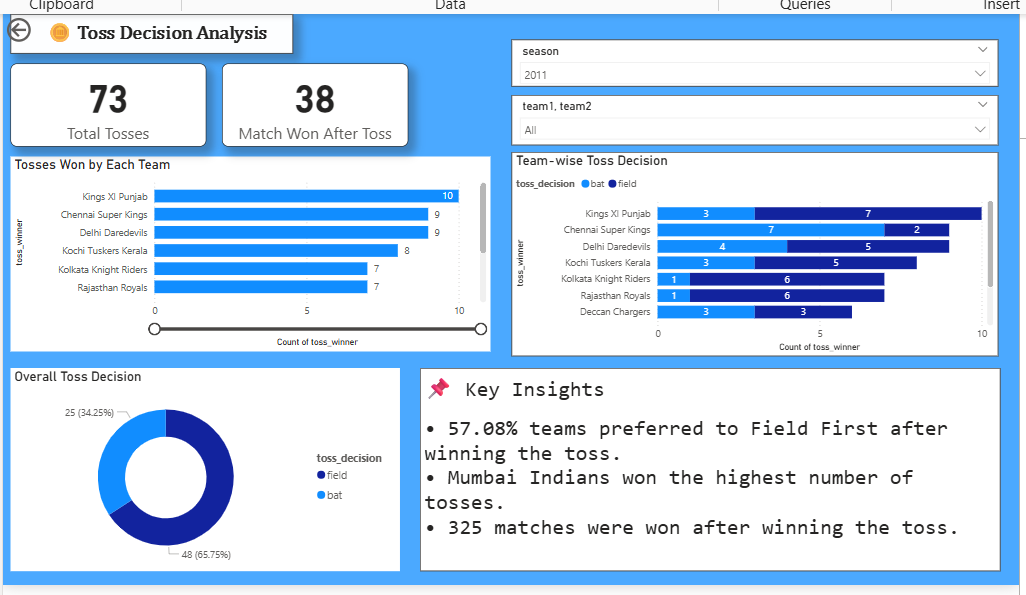

The dashboard page shown, as its layout file describes it:
{"tool":"powerbi","page":{"name":"toss decision analysis","canvas":[1280,720],"ordinal":1},"visuals":[{"type":"clusteredBarChart","title":"Tosses Won by Each Team","fields":{"Category":["matches (1) csv.toss_winner"],"Y":["CountNonNull(matches (1) csv.toss_winner)"]},"box":[9.1,180.2,604.2,245.3],"z":0},{"type":"donutChart","title":"Overall Toss Decision","fields":{"Category":["matches (1) csv.toss_decision"],"Y":["CountNonNull(matches (1) csv.toss_decision)"]},"box":[9.1,445.2,490.6,255.9],"z":1000},{"type":"textbox","box":[1183.1,688.7,12.4,12.4],"z":2000},{"type":"textbox","box":[9.1,0,355.8,50],"z":3000},{"type":"card","fields":{"Values":["Count(matches (1) csv.id)","select"]},"box":[9.1,62.1,246.8,104.5],"z":4000},{"type":"actionButton","box":[0,0,100,40],"z":5000},{"type":"card","fields":{"Values":["deliveries csv.Match Won After Toss","select"]},"box":[275.6,62.1,234.7,104.5],"z":6000},{"type":"barChart","title":"Team-wise Toss Decision","fields":{"Category":["matches (1) csv.toss_winner"],"Y":["CountNonNull(matches (1) csv.toss_winner)"],"Series":["matches (1) csv.toss_decision"]},"box":[640.5,174.1,613.3,257.4],"z":7000},{"type":"textbox","box":[525.4,445.2,731.4,255.9],"z":8000},{"type":"slicer","fields":{"Values":["matches (1) csv.season"]},"box":[640.5,31.8,613.3,59.1],"z":9000},{"type":"slicer","fields":{"Values":["matches (1) csv.team1","matches (1) csv.team2"]},"box":[640.5,103,613.3,63.6],"z":10000}]}

Visuals, with their boxes on the page's 1280x720 design canvas (x1, y1, x2, y2). These are canvas units, not pixel positions in the 1026x595 screenshot, which may show the page scaled, cropped or inside an application window:
"Tosses Won by Each Team" clusteredBarChart: [9, 180, 613, 426]
"Overall Toss Decision" donutChart: [9, 445, 500, 701]
textbox: [1183, 689, 1196, 701]
textbox: [9, 0, 365, 50]
card - Count(matches (1) csv.id) x select: [9, 62, 256, 167]
actionButton: [0, 0, 100, 40]
card - deliveries csv.Match Won After Toss x select: [276, 62, 510, 167]
"Team-wise Toss Decision" barChart: [640, 174, 1254, 432]
textbox: [525, 445, 1257, 701]
slicer - matches (1) csv.season: [640, 32, 1254, 91]
slicer - matches (1) csv.team1 x matches (1) csv.team2: [640, 103, 1254, 167]
